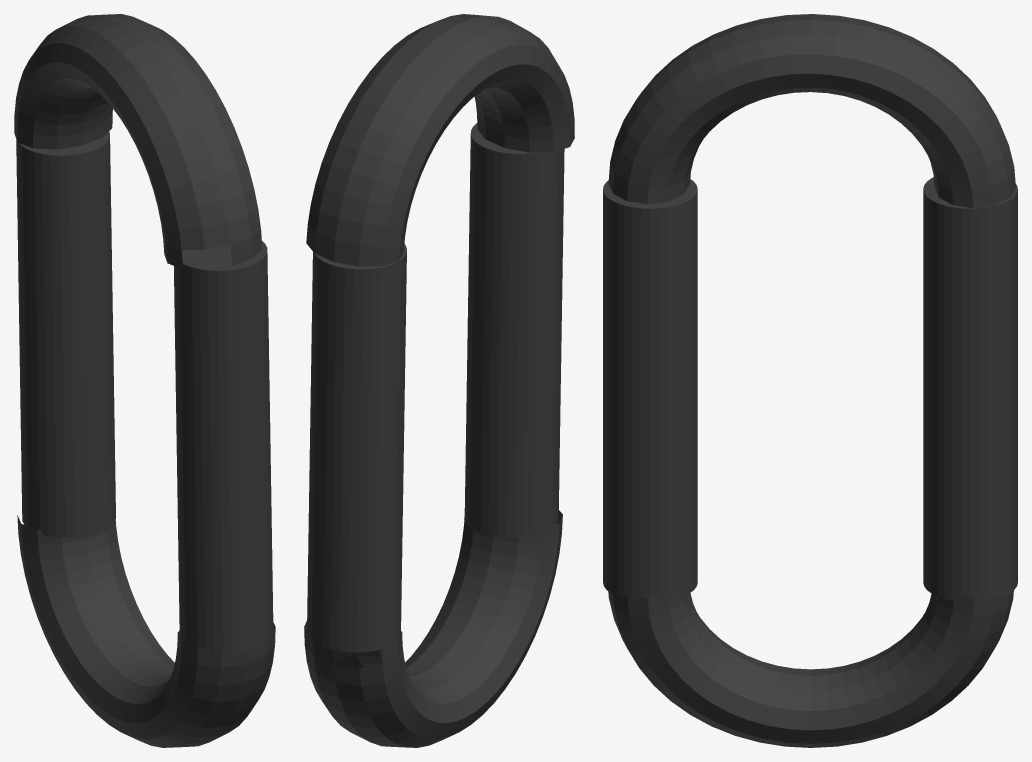
Rendered from chain chomp_cadena_libre.obj.
The picture shows the model from 3 angles, left to right: view 1: azimuth 30°, elevation 25°; view 2: azimuth 150°, elevation 25°; view 3: azimuth 270°, elevation 25°; orthographic projection.
Parts seen in each view (by area): view 1: Cilindro.003; view 2: Cilindro.003; view 3: Cilindro.003.
Boxes of the visible parts, x1=… form: Cilindro.003: x1=14, y1=14, x2=275, y2=747; Cilindro.003: x1=304, y1=14, x2=574, y2=747; Cilindro.003: x1=603, y1=14, x2=1017, y2=747.
Bounding box in the file's own units: 0.1154 × 0.7346 × 0.3868.
Materials: 1 (1 with a texture image).
